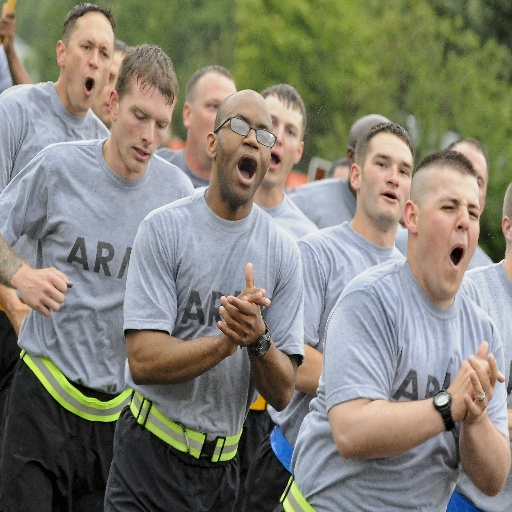hand: (216, 261, 267, 347), (219, 284, 271, 355), (19, 265, 71, 316), (462, 349, 496, 422), (14, 301, 31, 335)
